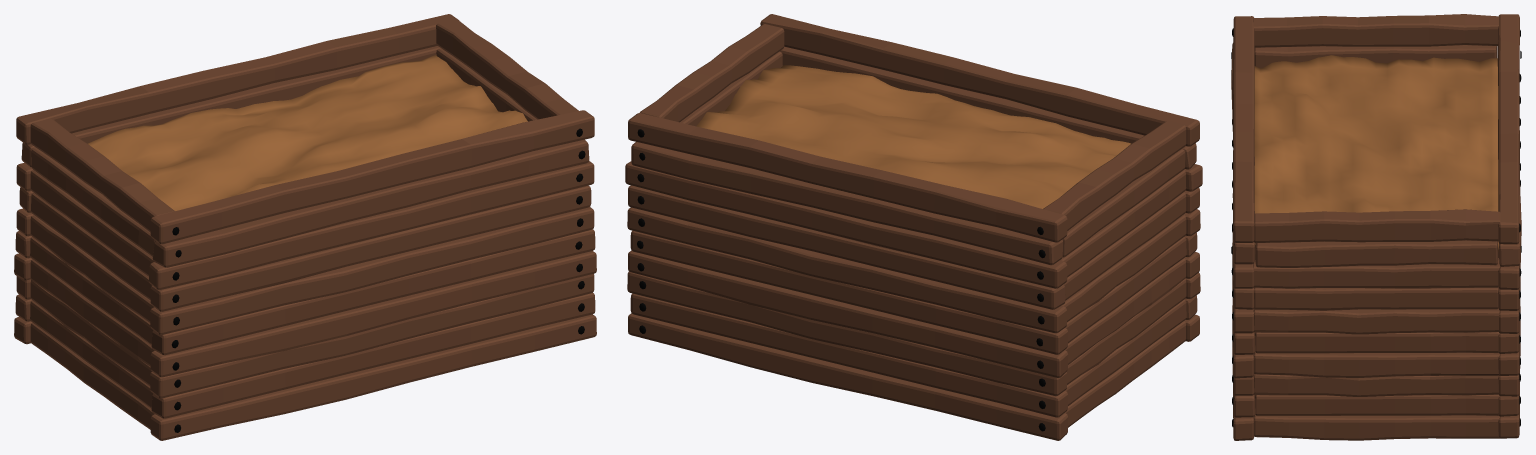
Rendered from RaisedGardenBed.fbx.
The picture shows the model from 3 angles, left to right: view 1: azimuth 30°, elevation 25°; view 2: azimuth 150°, elevation 25°; view 3: azimuth 270°, elevation 25°; orthographic projection.
Visible parts, largest first — view 1: RaisedGardenBed; view 2: RaisedGardenBed; view 3: RaisedGardenBed.
Part boxes in pixels (<box>): RaisedGardenBed: <box>14,14,596,440</box>; RaisedGardenBed: <box>625,14,1202,440</box>; RaisedGardenBed: <box>1231,14,1521,440</box>.
Bounding box in the file's own units: 49.94 × 24.39 × 28.9.
